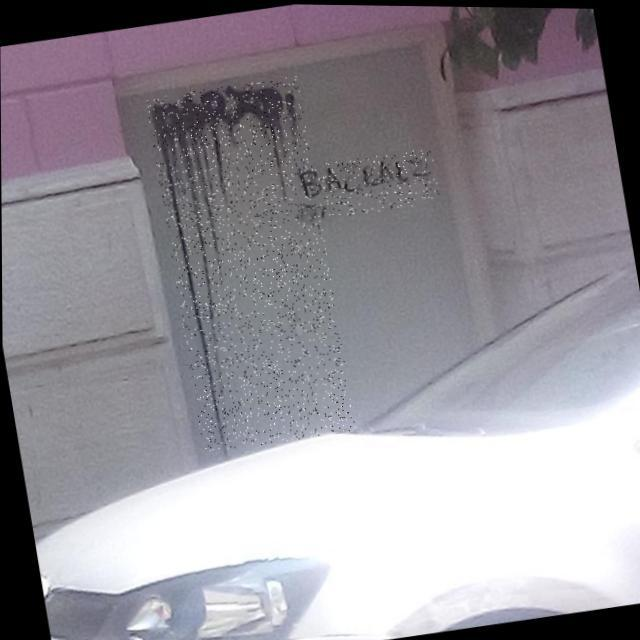-: (146, 73, 356, 454), (294, 145, 440, 223)
